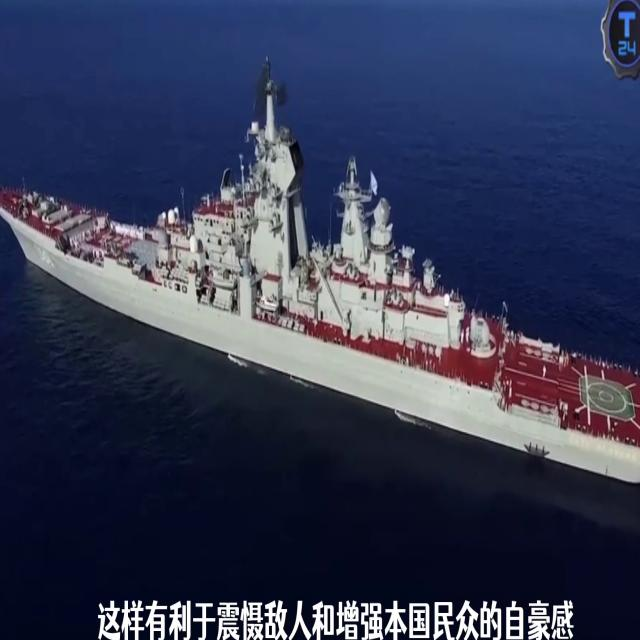navalvessels: (0, 53, 640, 498)
